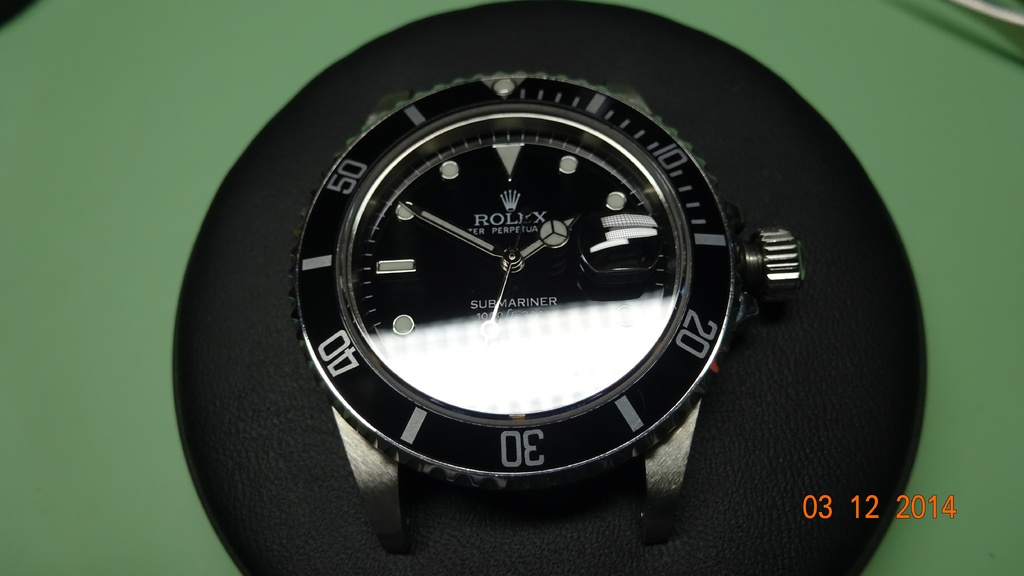watch: (284, 74, 806, 499)
